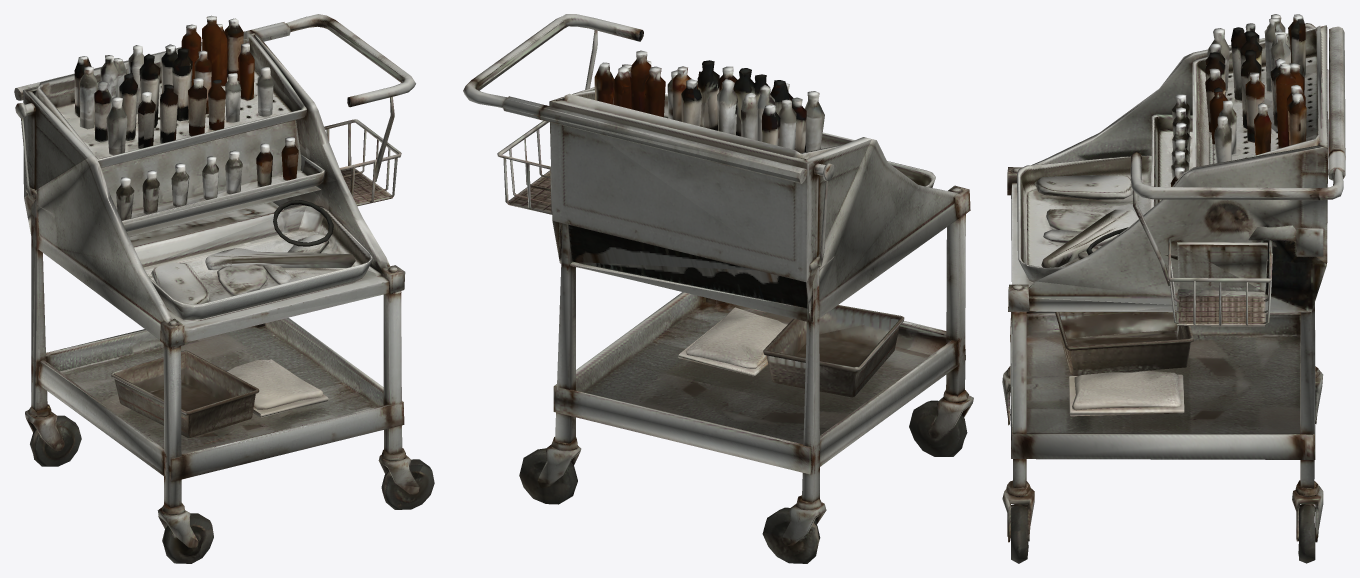
Rendered from InjectionCart.fbx.
3 views of the same model, side by side, from view 1: azimuth 30°, elevation 25°; view 2: azimuth 150°, elevation 25°; view 3: azimuth 270°, elevation 25° (orthographic). The views are drawn at different scales.
Visible parts, largest first — view 1: mesh_node; view 2: mesh_node; view 3: mesh_node.
Boxes of the visible parts, x1=… form: mesh_node: x1=14, y1=14, x2=434, y2=563; mesh_node: x1=463, y1=14, x2=973, y2=563; mesh_node: x1=1002, y1=14, x2=1345, y2=563.
Size of the model in its own units: 81.05 by 100 by 68.75.
1 material, 1 textured.
